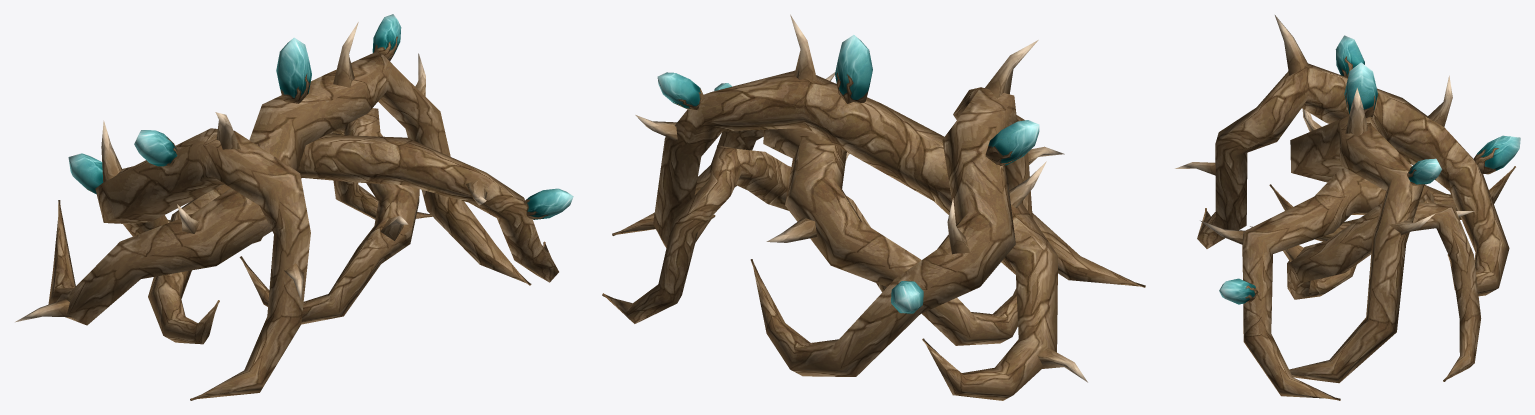
File: thorns.FBX
3 renders of one model, left to right at view 1: azimuth 30°, elevation 25°; view 2: azimuth 150°, elevation 25°; view 3: azimuth 270°, elevation 25°, orthographic. The views are drawn at different scales.
Visible parts, largest first — view 1: Line002; view 2: Line002; view 3: Line002.
Part boxes in pixels (box(x1,y1,x2,y2)): Line002: box(15, 14, 573, 400); Line002: box(602, 14, 1145, 400); Line002: box(1175, 15, 1520, 400).
Bounding box in the file's own units: 4.14 × 2.18 × 2.79.
